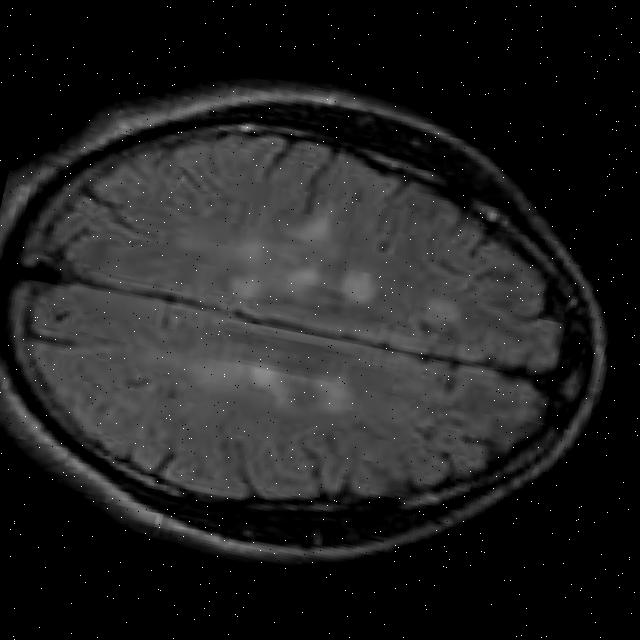NoTumor: (0, 76, 615, 569)
